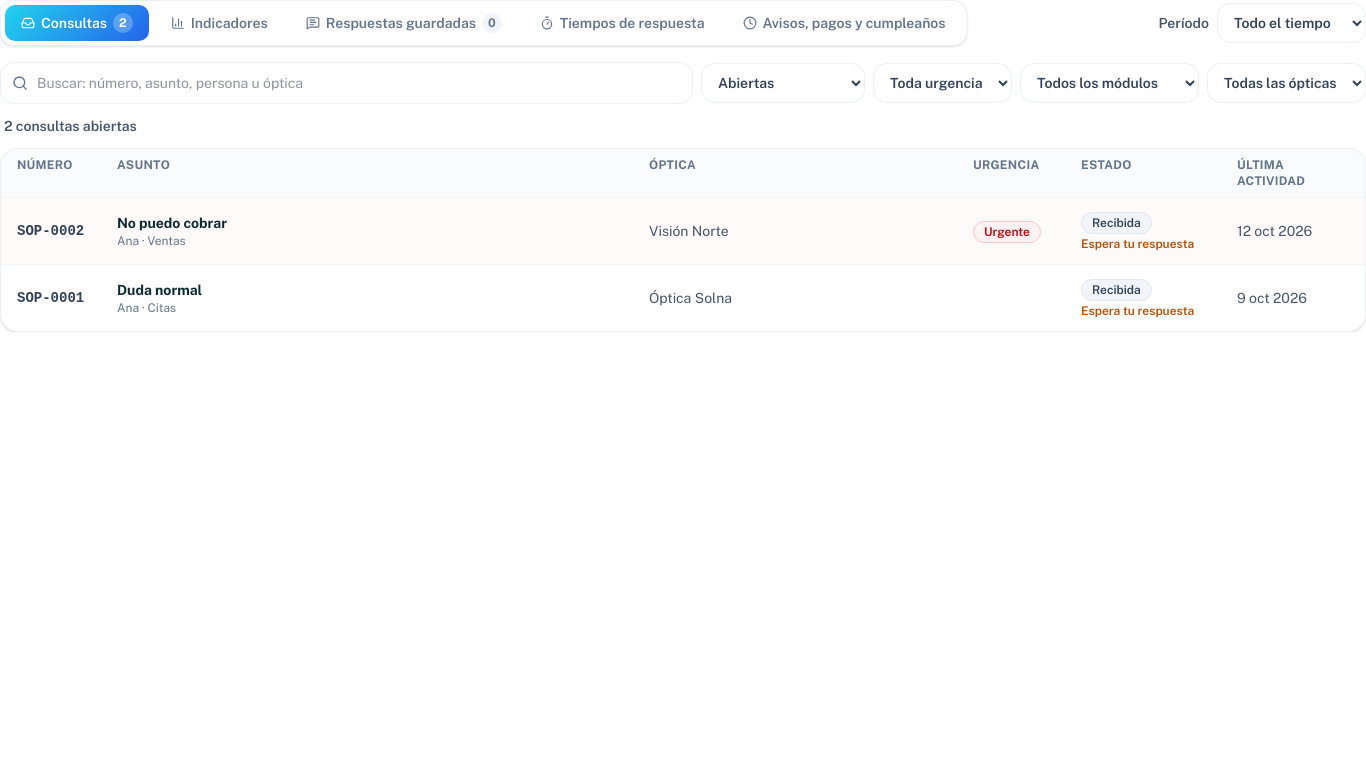
Test: Soporte del superadmin: la conversación › muestra la calificación que dio la óptica
The width and height of the screenshot is (1366, 768).
Step 1. Select "Resuelta" in the dropdown named "Filtrar por estado" → (783, 83), box [701,63,865,103]
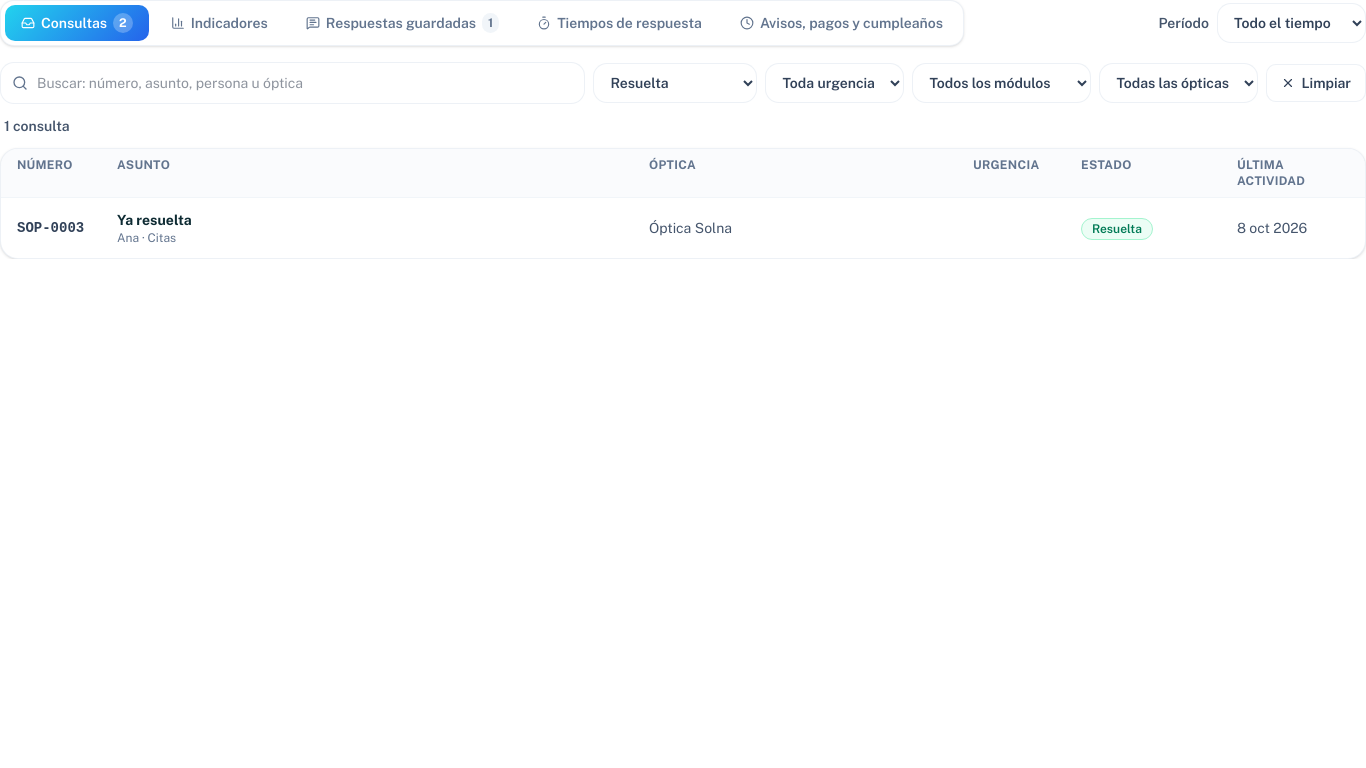
Step 2. Click the button "Ya resuelta" → (154, 220), box [117,210,192,230]
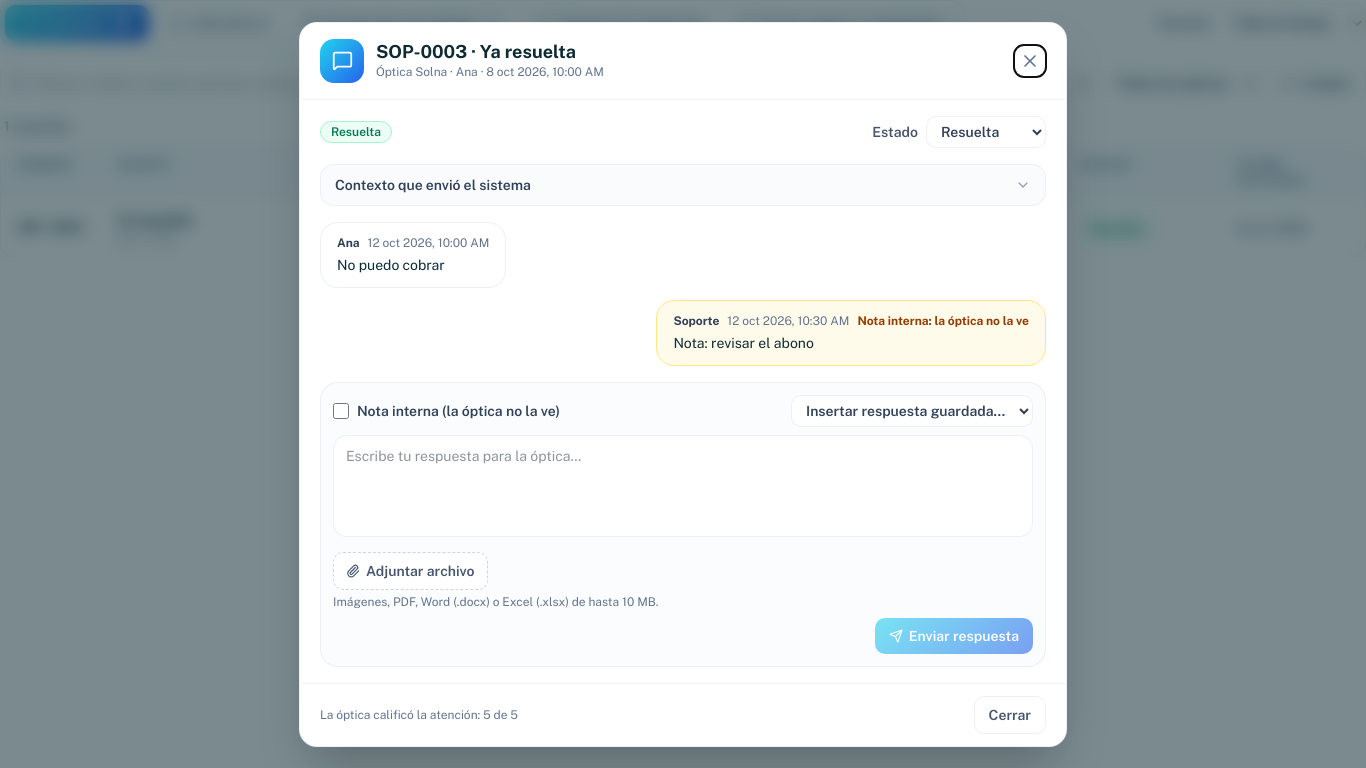
Expected: the text "La óptica calificó la atención: 5 de 5" is shown, [320,706,518,722]
